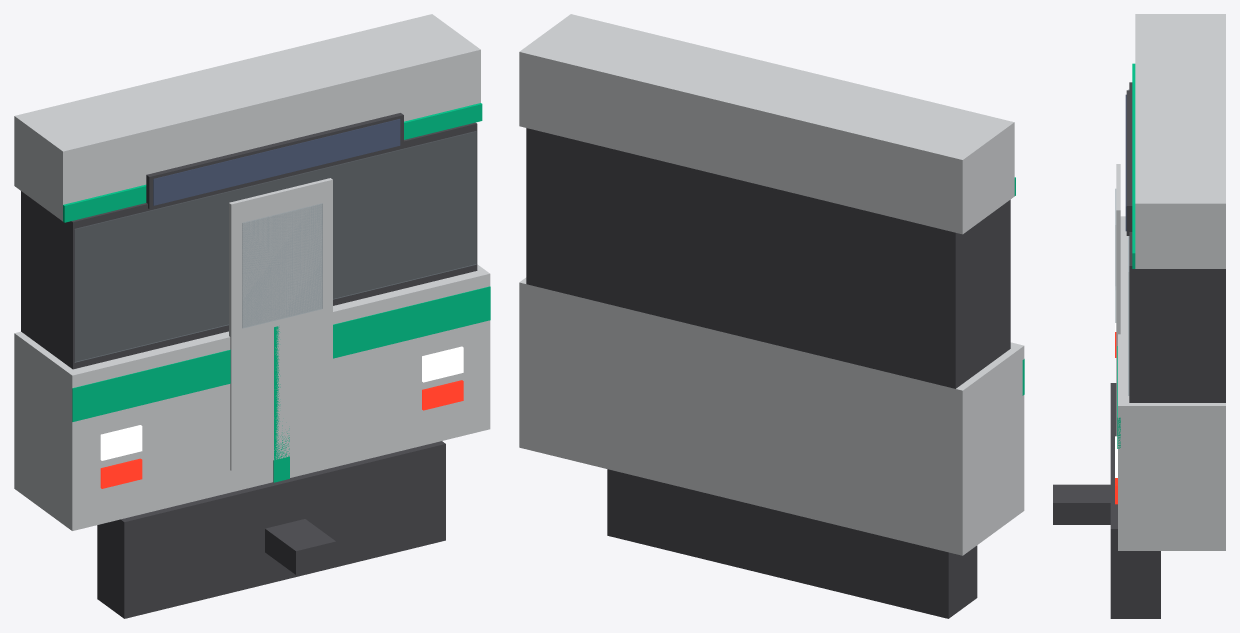
File: train_cab.glb
3 renders of one model, left to right at view 1: azimuth 30°, elevation 25°; view 2: azimuth 150°, elevation 25°; view 3: azimuth 270°, elevation 25°, orthographic. The views are drawn at different scales.
Visible parts, largest first — view 1: CabBody; view 2: CabBody; view 3: CabBody.
Part boxes in pixels (box(x1,y1,x2,y2)): CabBody: box(14, 14, 490, 618); CabBody: box(519, 14, 1024, 618); CabBody: box(1053, 14, 1225, 618).
Bounding box in the file's own units: 3.12 × 3.35 × 1.2.
